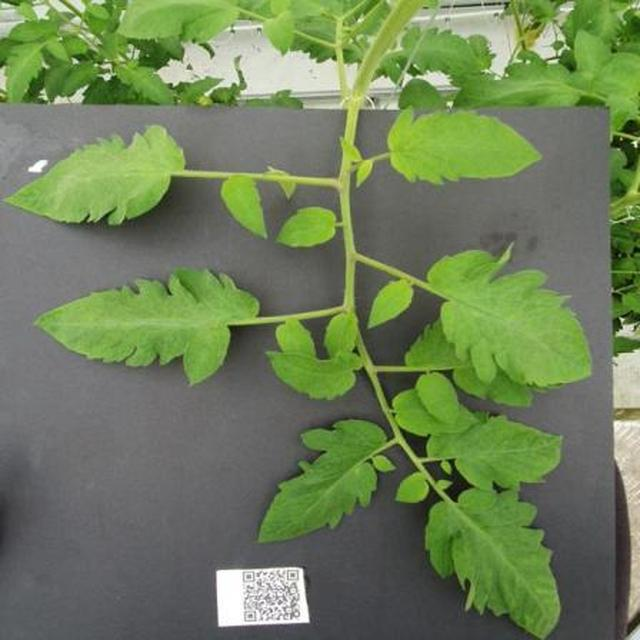Healthy Leaf: (67, 60, 640, 640)
